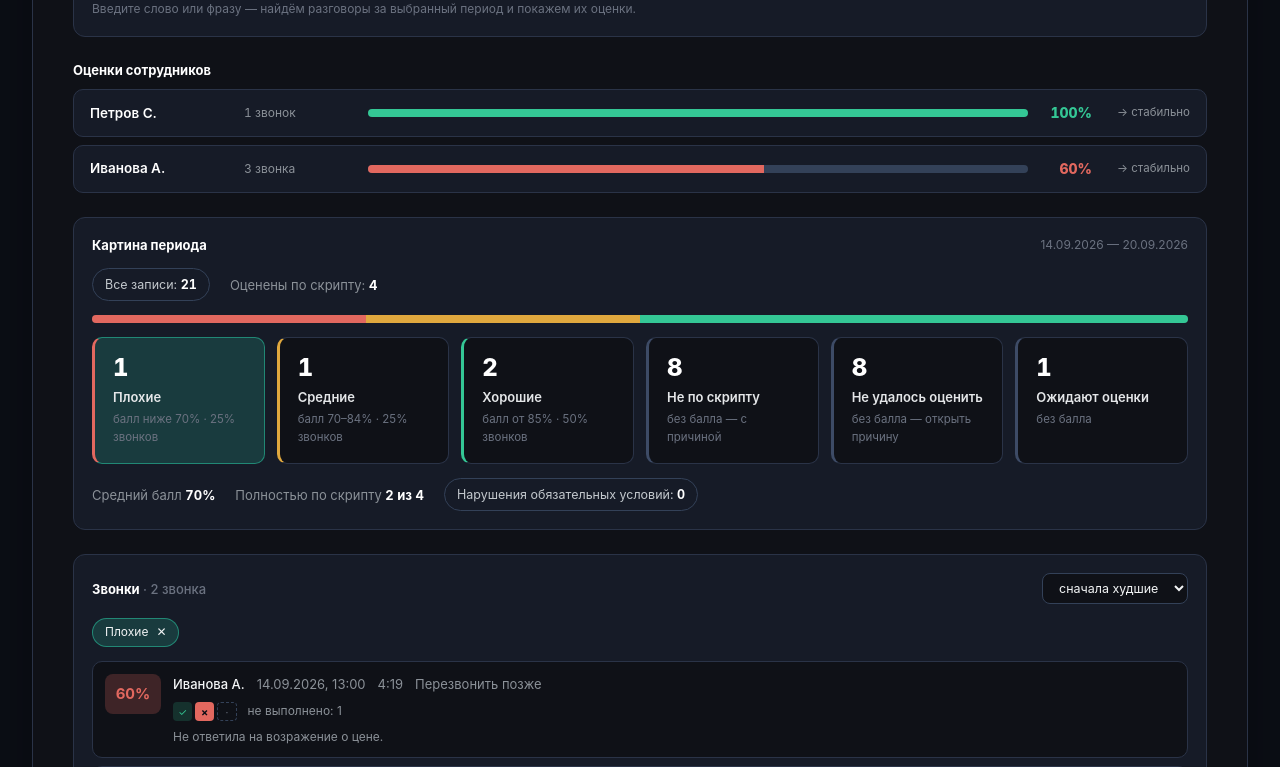
Scenario: экран оценки качества › звонки вне скрипта — отдельный список с причиной вместо балла
(page scrolled)
Step 1. Click the button "8 Не по скрипту без балла — с причиной" → coordinates (732, 401), box [646, 337, 819, 464]
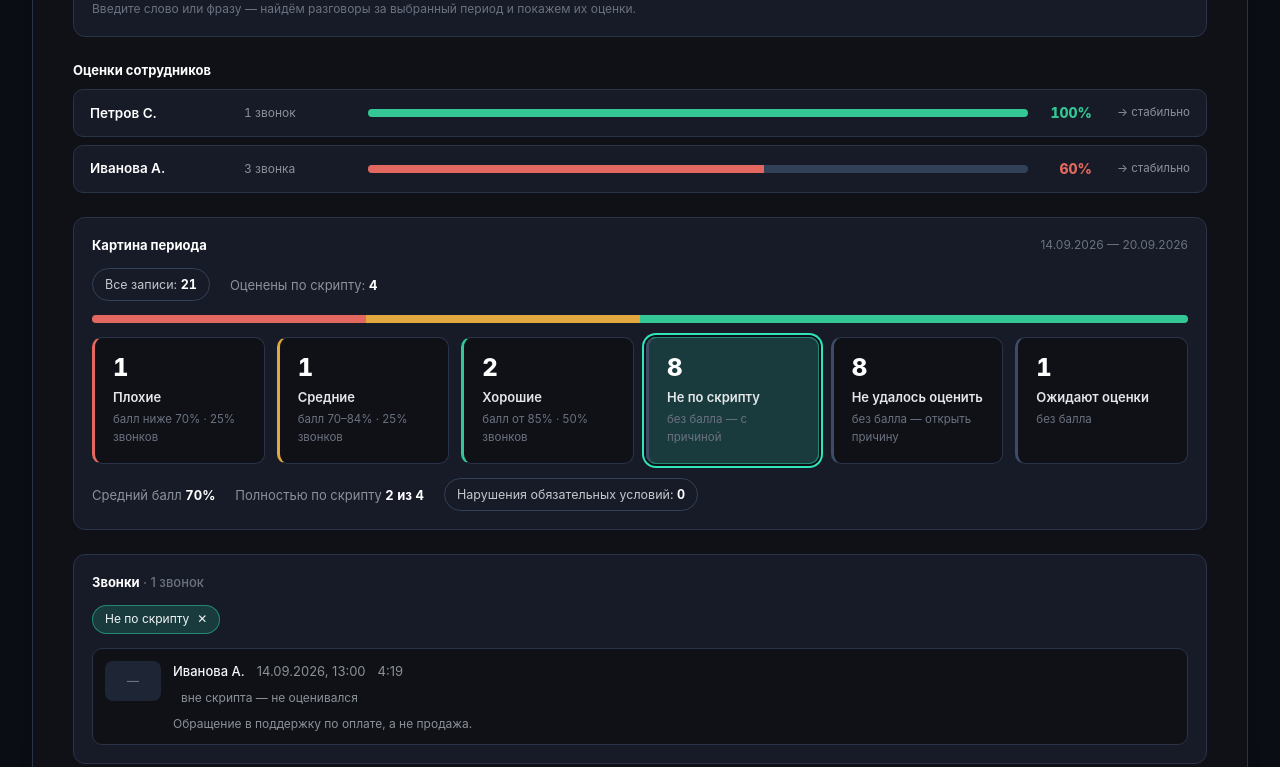
Now the text "Обращение в поддержку по оплате, а не продажа." is shown, box [173, 716, 472, 731]
Now the text "вне скрипта — не оценивался" is shown, box [181, 690, 358, 705]
